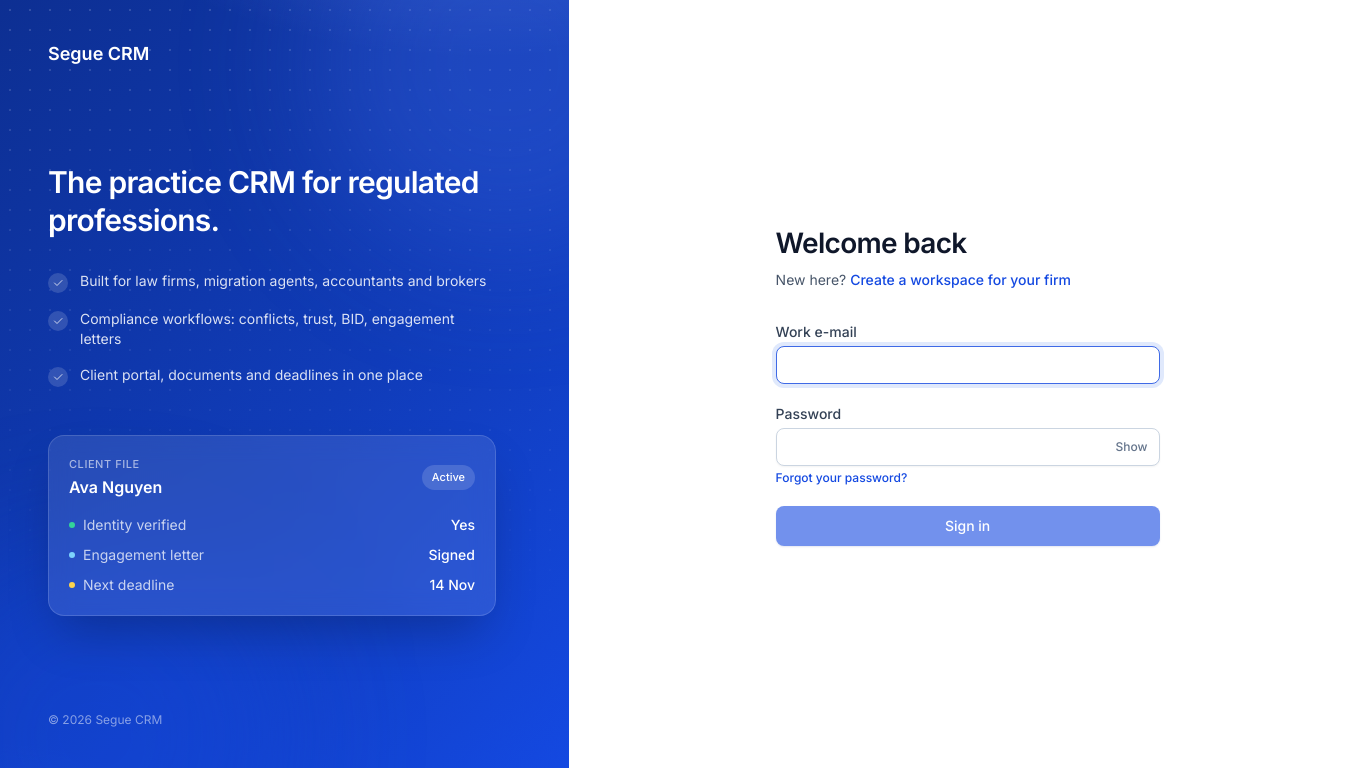
Test: login flow › starts MFA set-up when the account has none
Type "admin@demo.example.com" into the field labelled "Work e-mail" at [968, 365], box [776,346,1160,384]
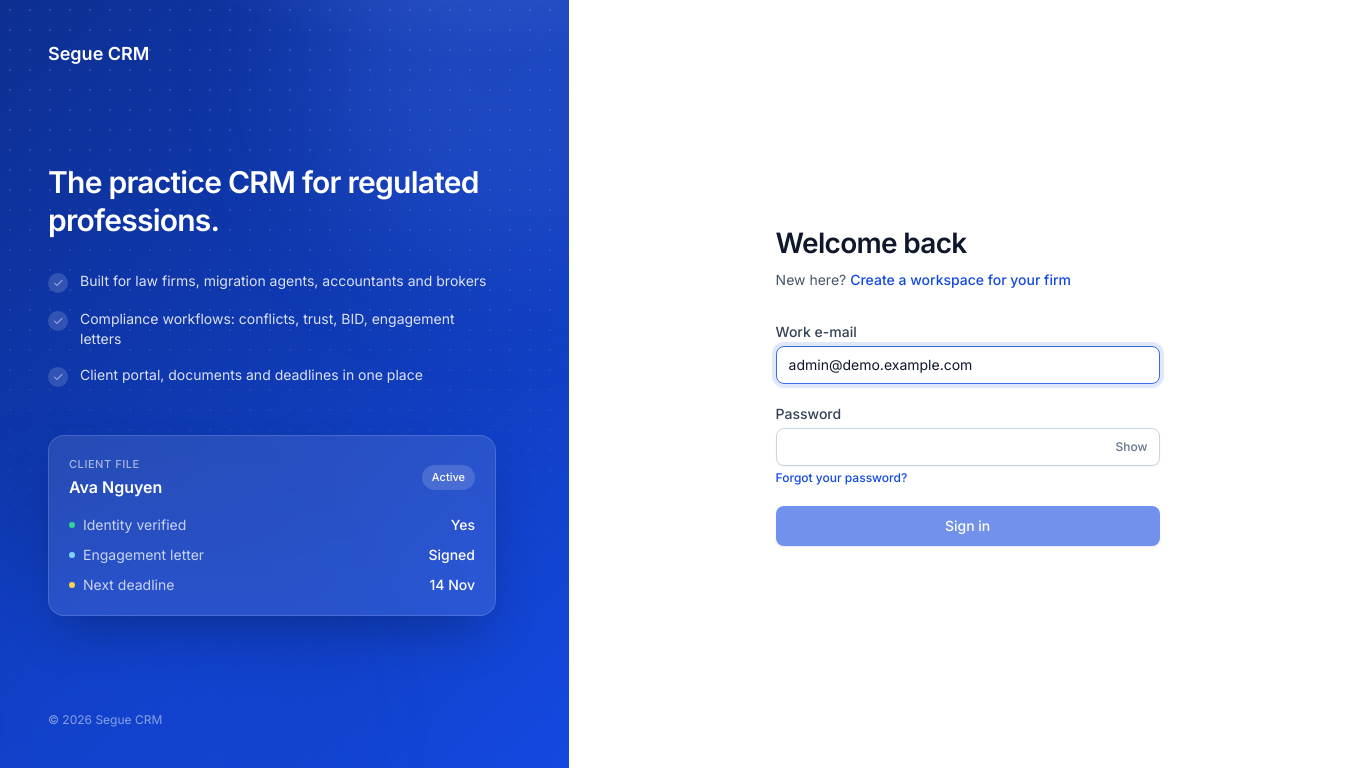
Type "Demo-Password-2026!" into the password field labelled "Password" at [968, 447], box [776,428,1160,466]
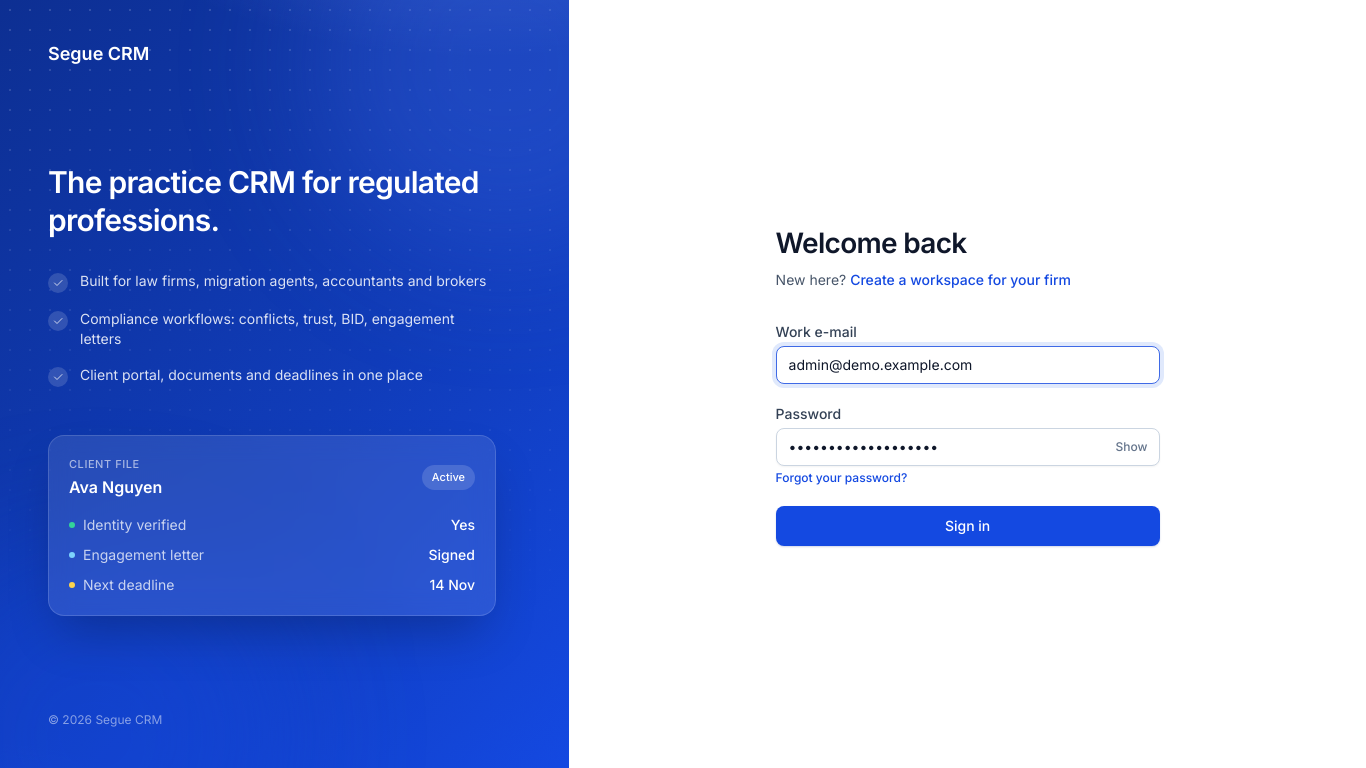
Click the button "Sign in" at [968, 526], box [776,506,1160,546]
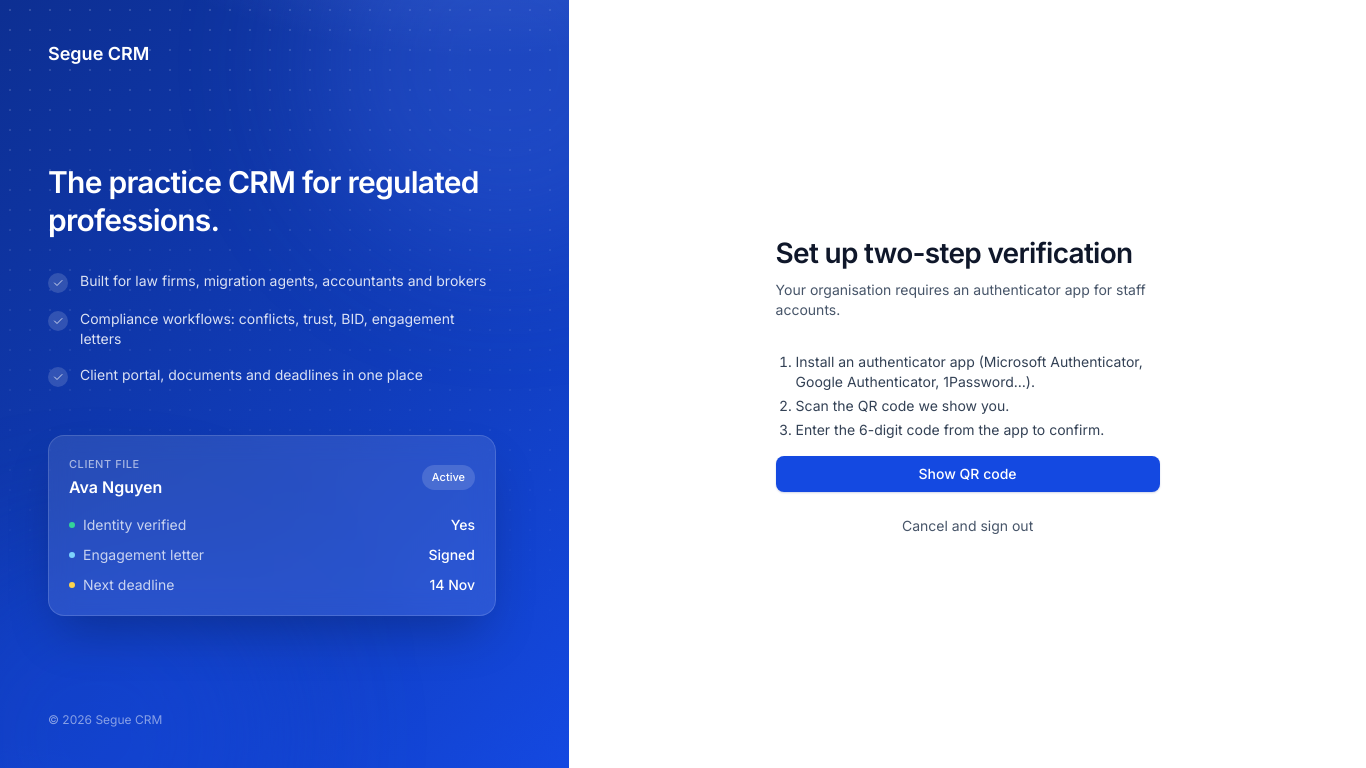
Expected: the heading "Set up two-step verification" is shown, [776,232,1160,274]
